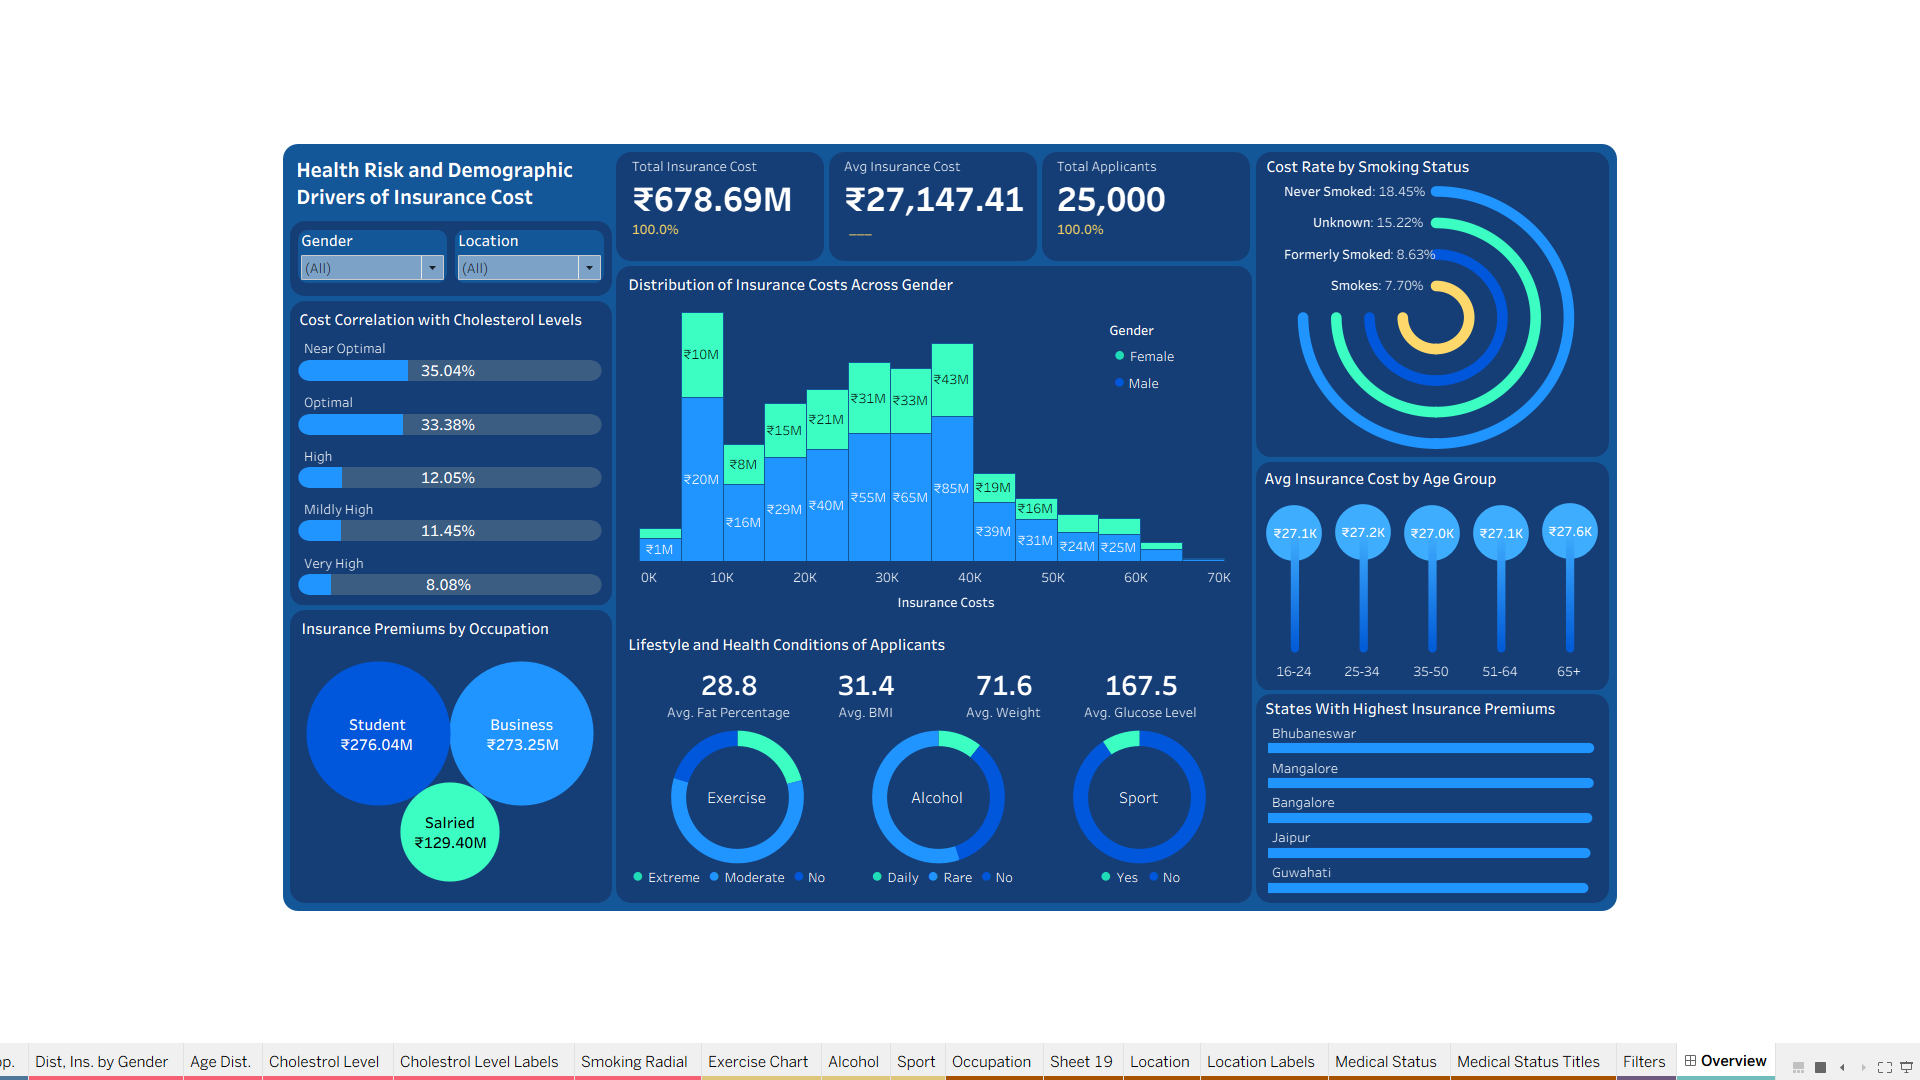

The page's visual inventory and layout, read from the dashboard file:
{"tool":"tableau","page":{"name":"Overview","canvas":[1000,1000],"units":"permille","ordinal":0},"visuals":[{"type":"worksheet","title":"Total Insure","mark":"Automatic","box":[296.3,52.9,126.1,134]},{"type":"worksheet","title":"Avg Insure","mark":"Automatic","box":[424.9,52.9,126.1,134]},{"type":"worksheet","title":"Count of App.","mark":"Automatic","box":[554,52.9,126.1,134]},{"type":"blank","box":[89.9,56.4,808.7,902.5]},{"type":"text","box":[96,58.8,210.6,85.8]},{"type":"text","box":[683.8,62.3,188.9,41.1]},{"type":"blank","box":[291.5,65.8,126.1,128.1]},{"type":"blank","box":[420.6,65.8,126.1,128.1]},{"type":"blank","box":[549.8,65.8,126.1,128.1]},{"type":"blank","box":[679.5,65.8,214.2,358.4]},{"type":"worksheet","title":"Smoking Radial","mark":"Line","box":[696.4,90.5,183.5,338.4]},{"type":"blank","box":[94.2,146.9,194.9,88.1]},{"type":"filter","title":"Filters","param":"[federated.0mix84j1bg9yli1973xne18jgpg7].[none:Gender:nk]","box":[99,157.5,90.5,62.3]},{"type":"filter","title":"Filters","param":"[federated.0mix84j1bg9yli1973xne18jgpg7].[none:Location:nk]","box":[193.7,157.5,90.5,62.3]},{"type":"blank","box":[291.6,199.8,385.2,749.7]},{"type":"text","box":[296.9,200.9,214.8,41.1]},{"type":"worksheet","title":"Filters","mark":"Automatic","box":[284.9,216.2,333.1,332.6]},{"type":"worksheet","title":"Dist, Ins. by Gender","mark":"Bar","rows":["applicant_id"],"cols":["Insurance Cost (bin)"],"box":[305.4,240,372.1,374.1]},{"type":"blank","box":[94.2,240.9,194.9,358.4]},{"type":"text","box":[97.8,242.1,176.8,41.1]},{"type":"text","box":[588.7,260.9,59.6,94]},{"type":"worksheet","title":"Cholestrol Level Labels","mark":"Circle","rows":["cholesterol_level"],"box":[99,264.4,141.2,316.1]},{"type":"worksheet","title":"Cholestrol Level","mark":"Automatic","rows":["cholesterol_level"],"box":[90.5,291.4,201,313.8]},{"type":"text","box":[682.6,428.9,187.7,41.1]},{"type":"blank","box":[679.5,430.1,214.2,269.1]},{"type":"worksheet","title":"Age Dist.","mark":"Line","rows":["insurance_cost"],"box":[682,472.4,208.2,215]},{"type":"blank","box":[94.2,605.2,194.9,344.3]},{"type":"text","box":[99,606.4,172,41.1]},{"type":"text","box":[297,624.7,206.1,41.2]},{"type":"worksheet","title":"Medical Status","mark":"Automatic","box":[318.7,640.4,333.1,104.6]},{"type":"worksheet","title":"Occupation","mark":"Circle","box":[103,655.7,174.9,278.5]},{"type":"worksheet","title":"Medical Status Titles","mark":"Automatic","box":[318.2,687.1,332.7,70.6]},{"type":"text","box":[683,700,194.6,41.2]},{"type":"blank","box":[679.5,703.9,214.2,245.6]},{"type":"worksheet","title":"Exercise Chart","mark":"Pie","cols":["Calculation_1264201156042767","Calculation_1264201156079633"],"box":[304.2,722.7,121.9,204.5]},{"type":"worksheet","title":"Alcohol","mark":"Pie","cols":["Calculation_1264201156042767","Calculation_1264201156079633"],"box":[426.1,722.7,121.9,204.5]},{"type":"worksheet","title":"Sport","mark":"Pie","cols":["Calculation_1264201156042767","Calculation_1264201156079633"],"box":[548,722.7,121.9,204.5]},{"type":"worksheet","title":"Location Labels","mark":"Circle","rows":["Location (copy)_1246884514562048"],"box":[685.6,728.6,144.8,204.5]},{"type":"worksheet","title":"Location","mark":"Line","rows":["Location (copy)_1246884514562048"],"box":[686.8,746.2,204.6,205.6]},{"type":"text","box":[294.7,895.4,130.3,41.1]},{"type":"text","box":[436.7,895.4,104.2,41.1]},{"type":"text","box":[574.5,895.4,68.8,41.1]}]}

Visuals, with their boxes on the dashboard's canvas, which has no fixed pixel size, in thousandths of its width and height (x1, y1, x2, y2). These are canvas units, not pixel positions in the 1920x1080 screenshot, which may show the page scaled, cropped or inside an application window:
"Total Insure" worksheet: rect(296, 53, 422, 187)
"Avg Insure" worksheet: rect(425, 53, 551, 187)
"Count of App." worksheet: rect(554, 53, 680, 187)
blank: rect(90, 56, 899, 959)
text: rect(96, 59, 307, 145)
text: rect(684, 62, 873, 103)
blank: rect(292, 66, 418, 194)
blank: rect(421, 66, 547, 194)
blank: rect(550, 66, 676, 194)
blank: rect(680, 66, 894, 424)
"Smoking Radial" worksheet (Line marks): rect(696, 90, 880, 429)
blank: rect(94, 147, 289, 235)
"Filters" filter: rect(99, 158, 190, 220)
"Filters" filter: rect(194, 158, 284, 220)
blank: rect(292, 200, 677, 950)
text: rect(297, 201, 512, 242)
"Filters" worksheet: rect(285, 216, 618, 549)
"Dist, Ins. by Gender" worksheet (Bar marks): rect(305, 240, 678, 614)
blank: rect(94, 241, 289, 599)
text: rect(98, 242, 275, 283)
text: rect(589, 261, 648, 355)
"Cholestrol Level Labels" worksheet (Circle marks): rect(99, 264, 240, 580)
"Cholestrol Level" worksheet: rect(90, 291, 292, 605)
text: rect(683, 429, 870, 470)
blank: rect(680, 430, 894, 699)
"Age Dist." worksheet (Line marks): rect(682, 472, 890, 687)
blank: rect(94, 605, 289, 950)
text: rect(99, 606, 271, 648)
text: rect(297, 625, 503, 666)
"Medical Status" worksheet: rect(319, 640, 652, 745)
"Occupation" worksheet (Circle marks): rect(103, 656, 278, 934)
"Medical Status Titles" worksheet: rect(318, 687, 651, 758)
text: rect(683, 700, 878, 741)
blank: rect(680, 704, 894, 950)
"Exercise Chart" worksheet (Pie marks): rect(304, 723, 426, 927)
"Alcohol" worksheet (Pie marks): rect(426, 723, 548, 927)
"Sport" worksheet (Pie marks): rect(548, 723, 670, 927)
"Location Labels" worksheet (Circle marks): rect(686, 729, 830, 933)
"Location" worksheet (Line marks): rect(687, 746, 891, 952)
text: rect(295, 895, 425, 936)
text: rect(437, 895, 541, 936)
text: rect(574, 895, 643, 936)
